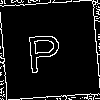P: (25, 25, 63, 74)
